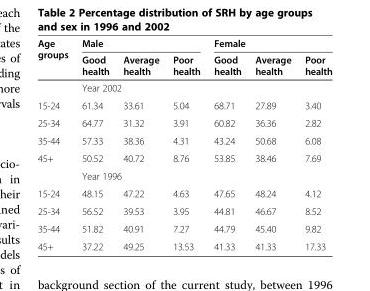table: (36, 37, 331, 251)
table column: (115, 37, 165, 251), (247, 37, 297, 251), (74, 37, 115, 251), (165, 37, 206, 251), (206, 37, 247, 251), (36, 37, 74, 251), (297, 37, 331, 251)
table column header: (36, 37, 331, 79)
table row: (36, 51, 331, 79), (36, 113, 331, 131), (36, 131, 331, 149), (36, 166, 331, 184), (36, 184, 331, 202), (36, 219, 331, 237), (36, 79, 331, 96), (36, 96, 331, 113), (36, 149, 331, 166), (36, 202, 331, 219), (36, 37, 331, 51), (36, 237, 331, 251)
table spanning cell: (74, 166, 331, 184), (74, 79, 331, 96), (74, 37, 206, 51), (206, 37, 331, 51), (36, 37, 74, 79), (36, 149, 74, 184)
